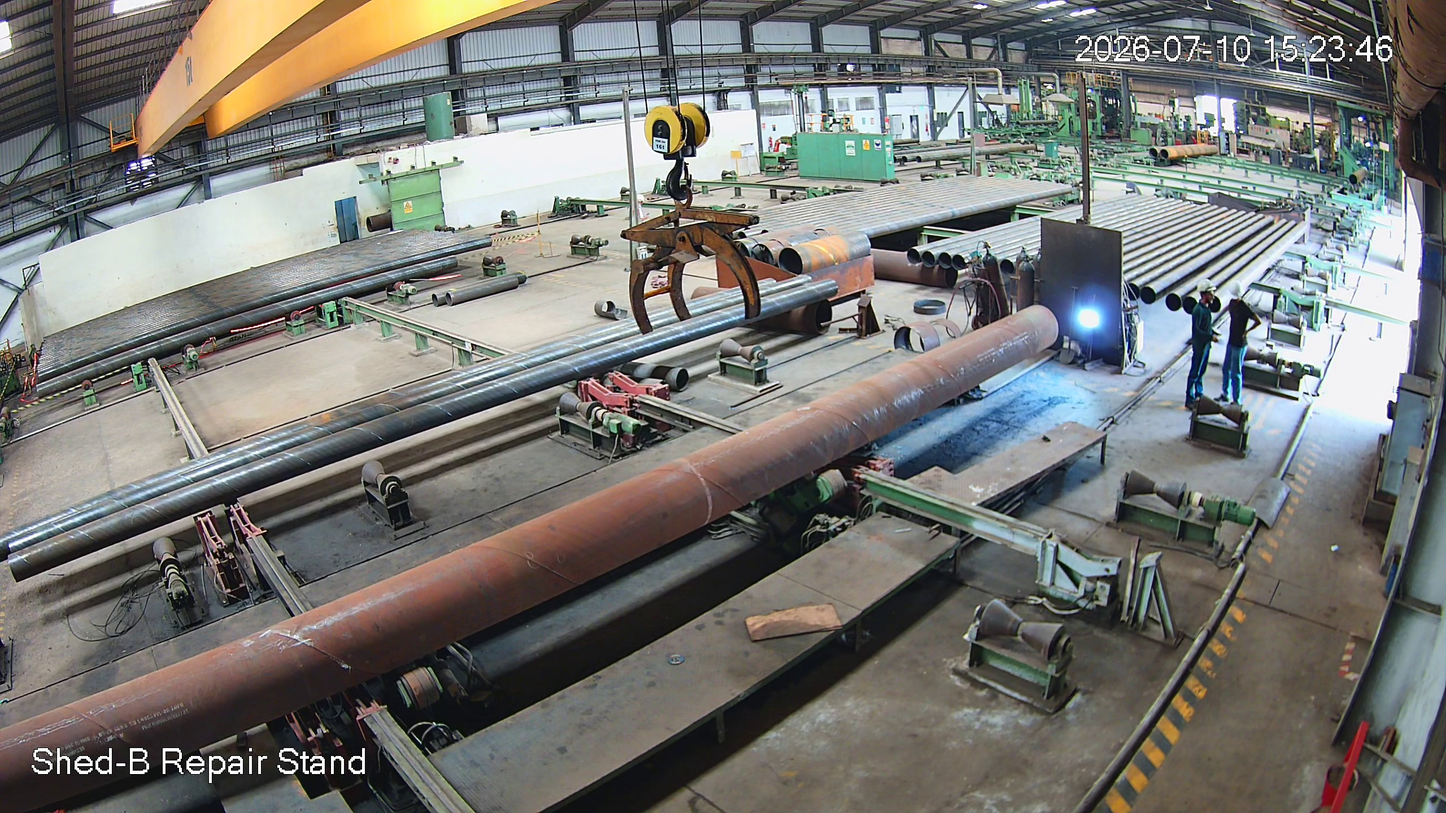Helmet: (1194, 276, 1219, 314), (1224, 277, 1249, 306)
Person: (1185, 280, 1221, 414), (1222, 281, 1259, 405)
